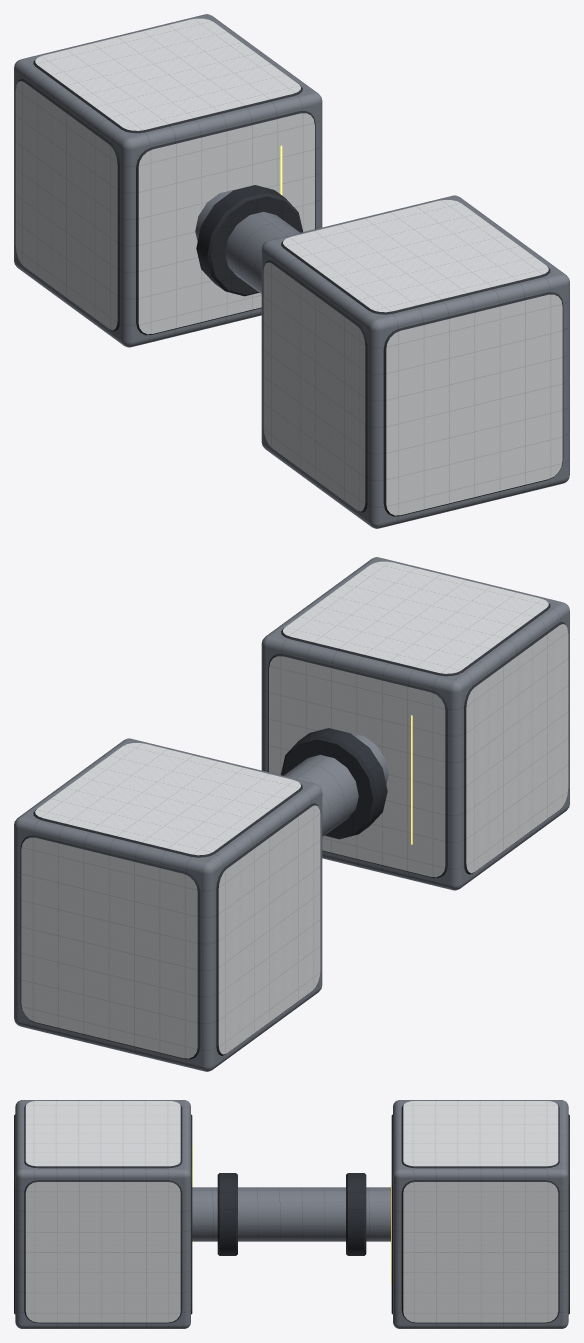
The model's file is R4C_STRUT_STANDARD.glb.
3 renders of one model, top to bottom at view 1: azimuth 30°, elevation 25°; view 2: azimuth 150°, elevation 25°; view 3: azimuth 270°, elevation 25°, orthographic. The views are drawn at different scales.
Visible parts, largest first — view 1: R4C_STRUT_STANDARD; view 2: R4C_STRUT_STANDARD; view 3: R4C_STRUT_STANDARD.
Part boxes in pixels (x1,y1,x2,y2): R4C_STRUT_STANDARD: (14, 14, 569, 528); R4C_STRUT_STANDARD: (14, 557, 569, 1071); R4C_STRUT_STANDARD: (14, 1100, 569, 1328).
Bounding box in the file's own units: 0.52 × 0.52 × 1.62.
Materials: 4 (3 with a texture image).
